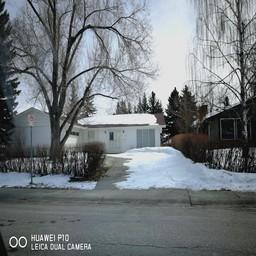Snow: (108, 147, 255, 191), (78, 114, 156, 124), (34, 176, 96, 188), (0, 173, 29, 186)
